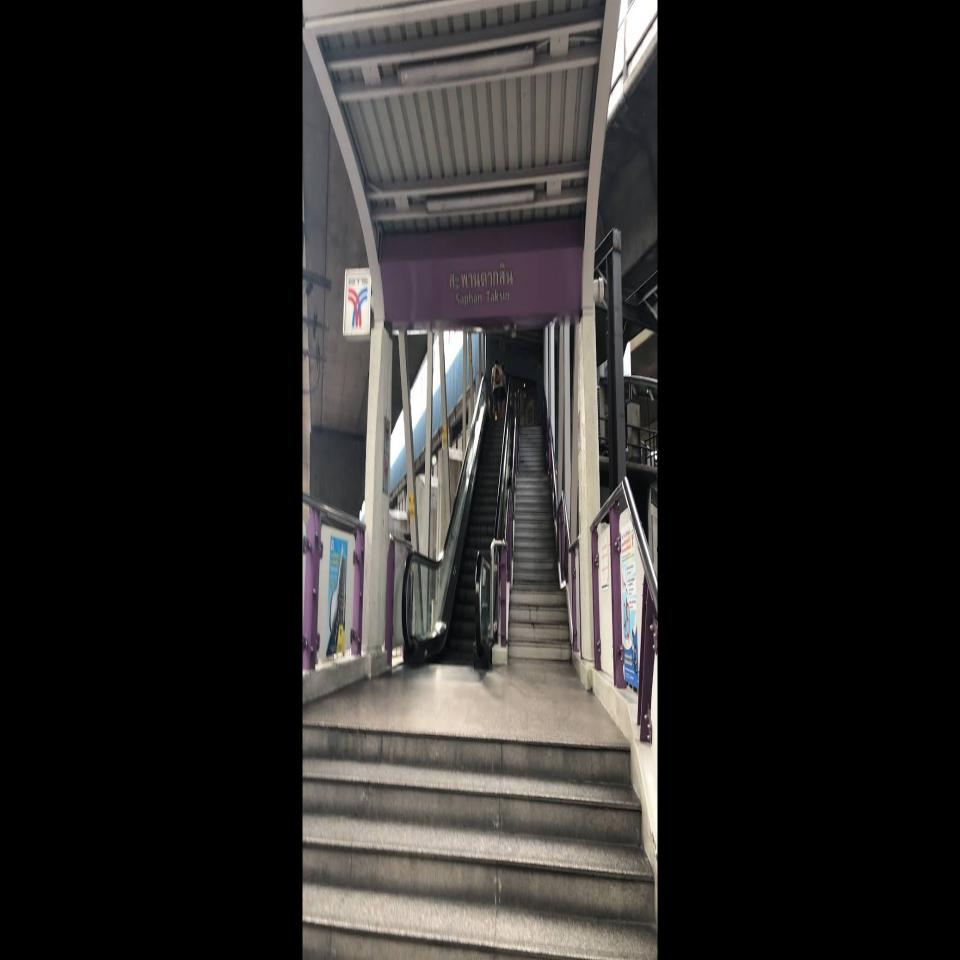signage: (343, 245, 584, 339), (379, 245, 584, 320)
